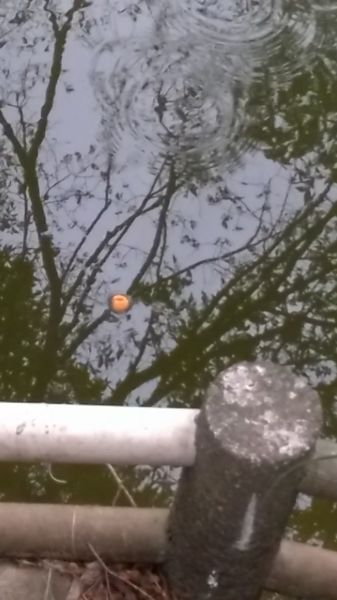eggs: (105, 293, 135, 315)
